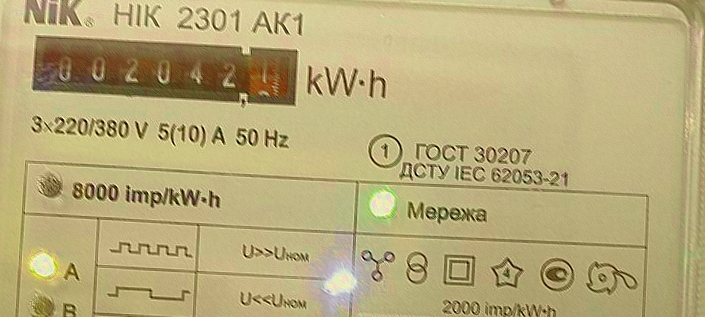0: (155, 53, 174, 84), (90, 50, 108, 82), (56, 50, 75, 80)
1: (257, 52, 272, 84)
2: (123, 52, 142, 82), (221, 57, 239, 86)
4: (188, 52, 207, 85)
screen: (28, 28, 305, 112)
